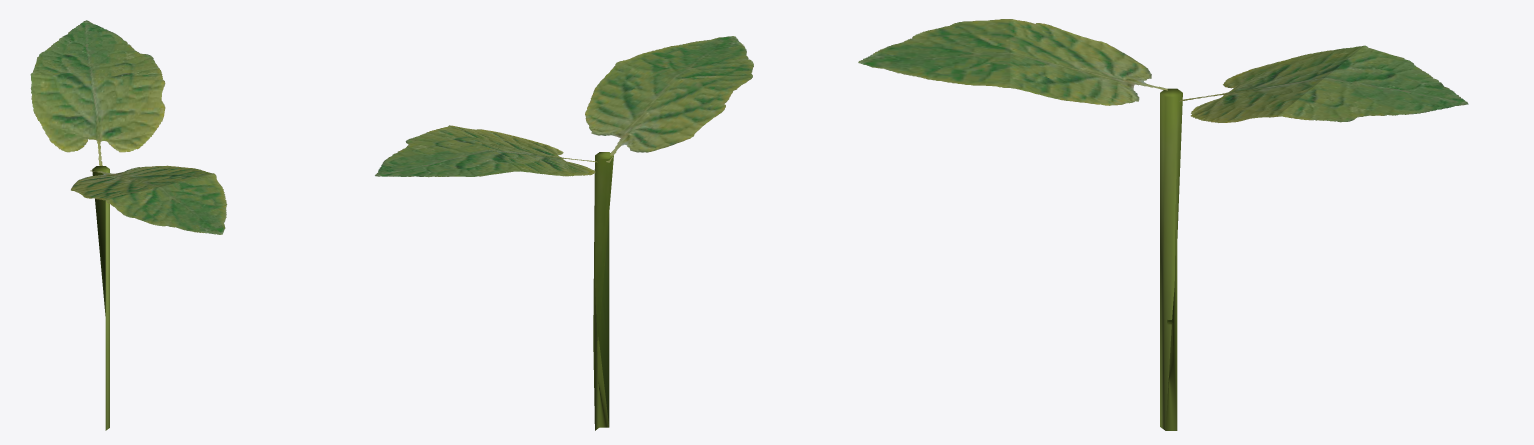
File: Plant_stage_01.fbx
3 renders of one model, left to right at view 1: azimuth 30°, elevation 25°; view 2: azimuth 150°, elevation 25°; view 3: azimuth 270°, elevation 25°, orthographic. The views are drawn at different scales.
Parts seen in each view (by area): view 1: Plant_Stage_01; view 2: Plant_Stage_01; view 3: Plant_Stage_01.
Part boxes in pixels (<box>): Plant_Stage_01: <box>30,20,227,430</box>; Plant_Stage_01: <box>375,36,753,430</box>; Plant_Stage_01: <box>858,19,1468,430</box>.
Bounding box in the file's own units: 2.79 × 1.43 × 1.77.
